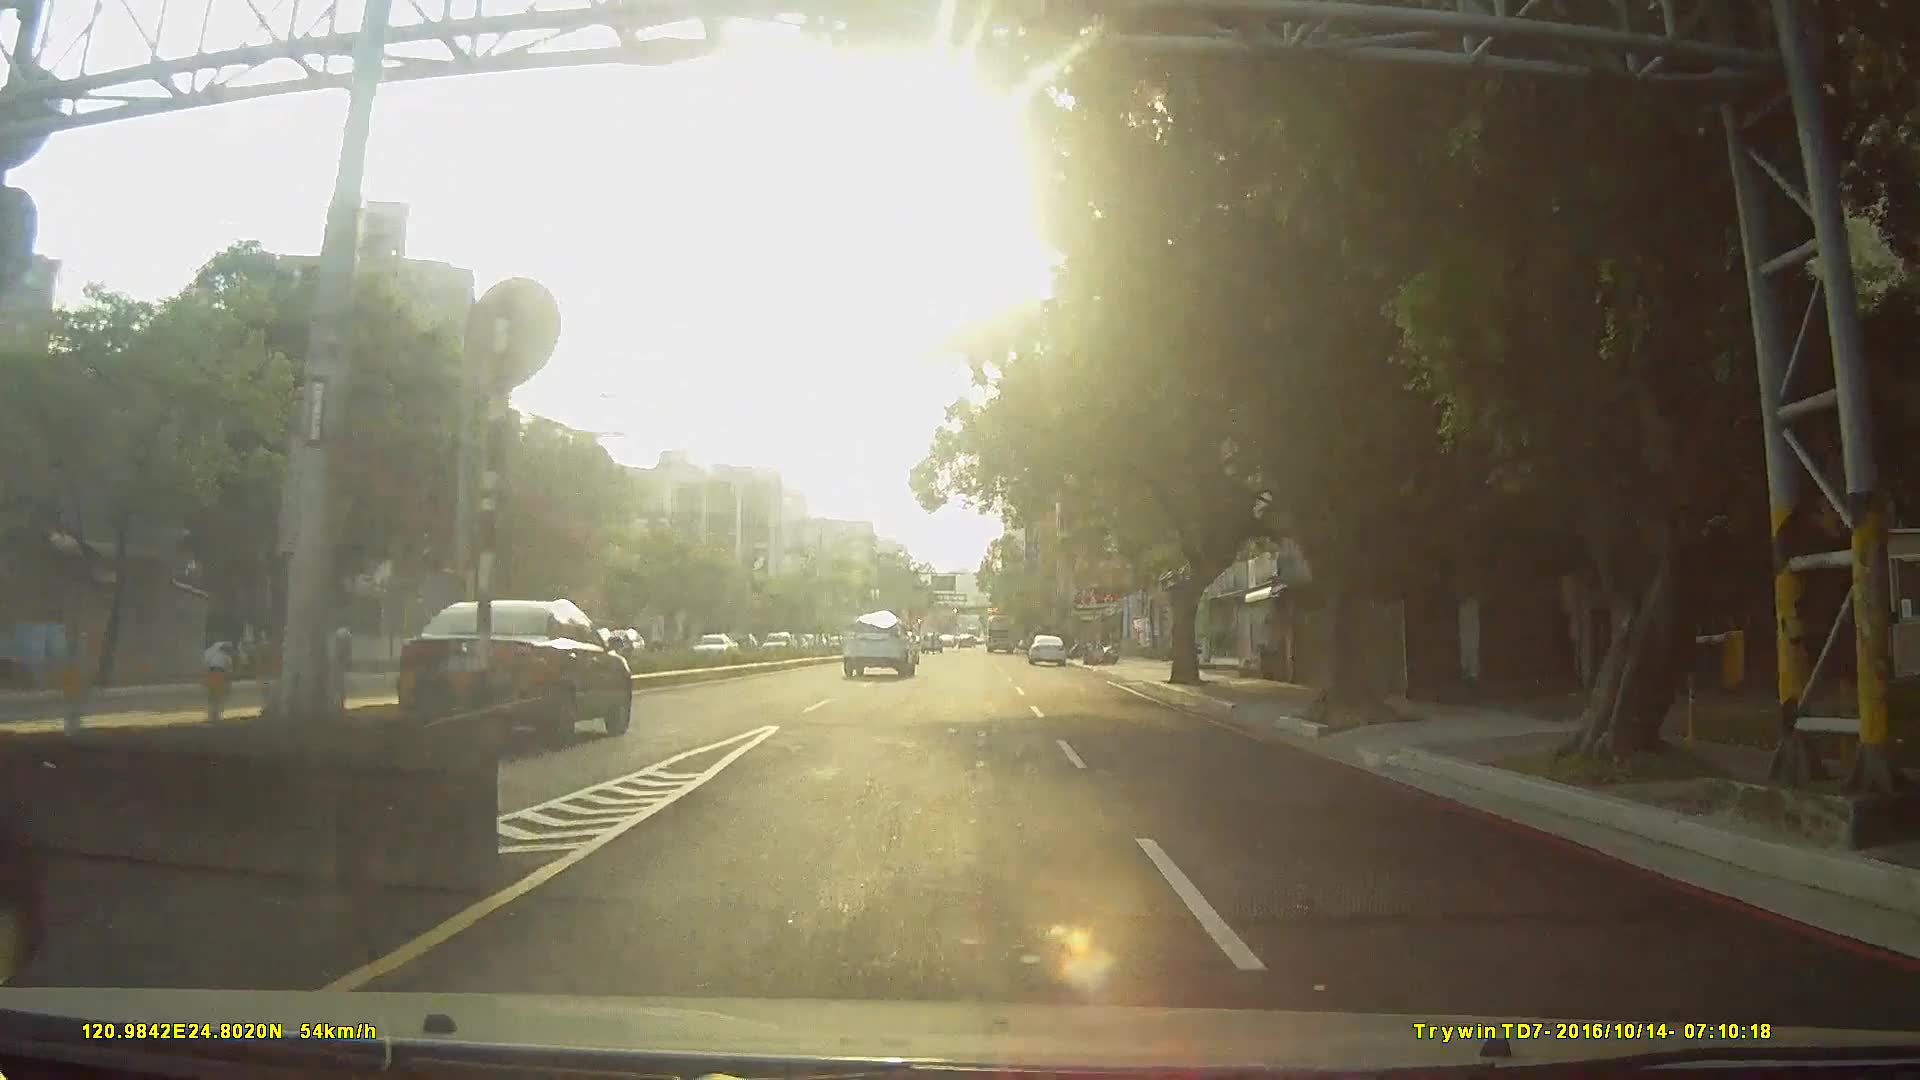pedestrian: (333, 623, 358, 677)
vehicle: (397, 593, 634, 738), (839, 607, 917, 674), (1026, 631, 1068, 667), (982, 610, 1016, 652)
